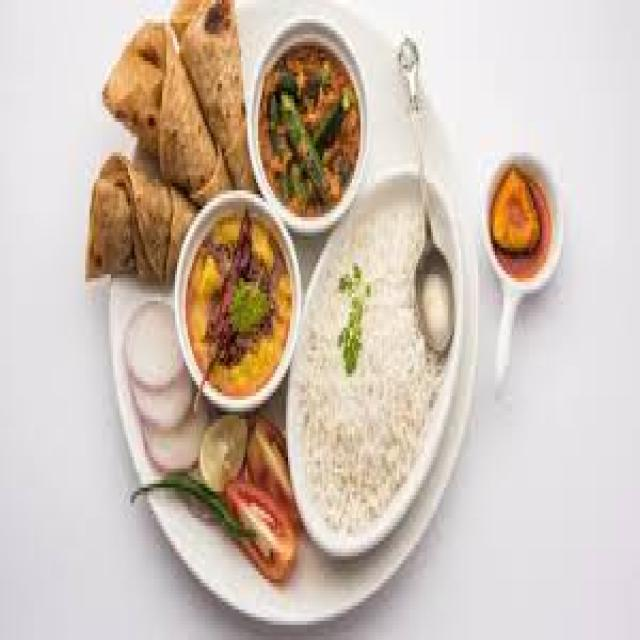papad: (152, 12, 245, 201)
pickle: (478, 160, 560, 272)
rice: (291, 216, 435, 548)
sweet: (117, 301, 188, 405)
veg-fry: (178, 201, 290, 410), (252, 40, 368, 222)
